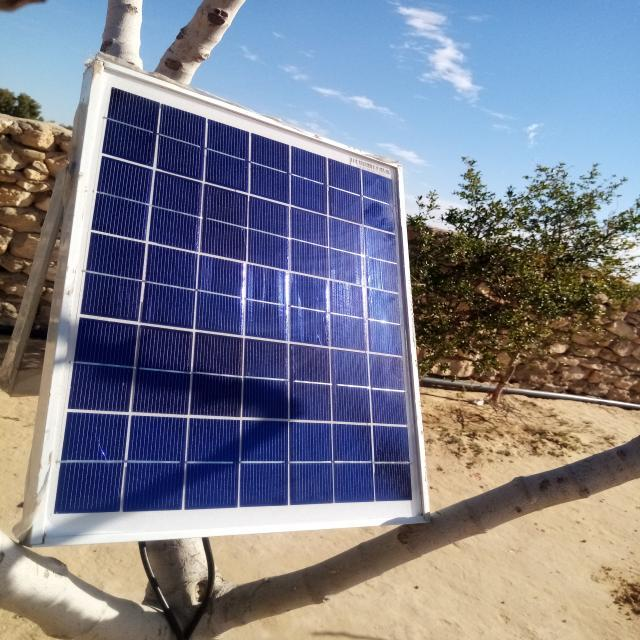no faulty: (35, 63, 427, 545)
